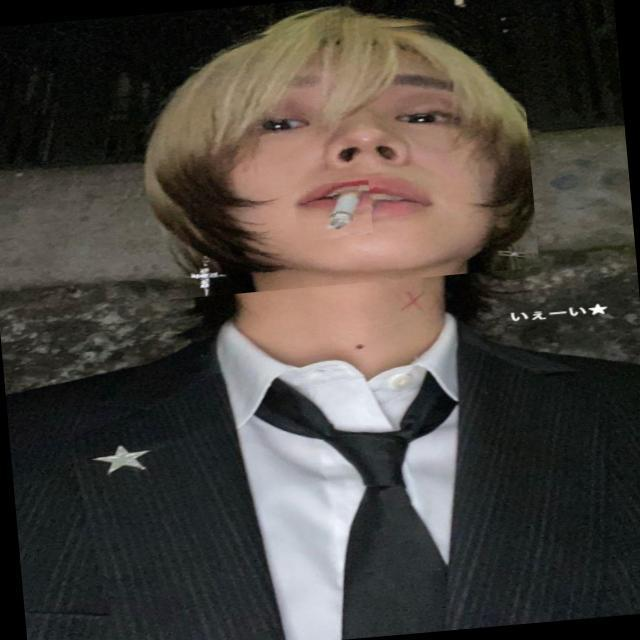cigarette: (290, 180, 373, 242)
